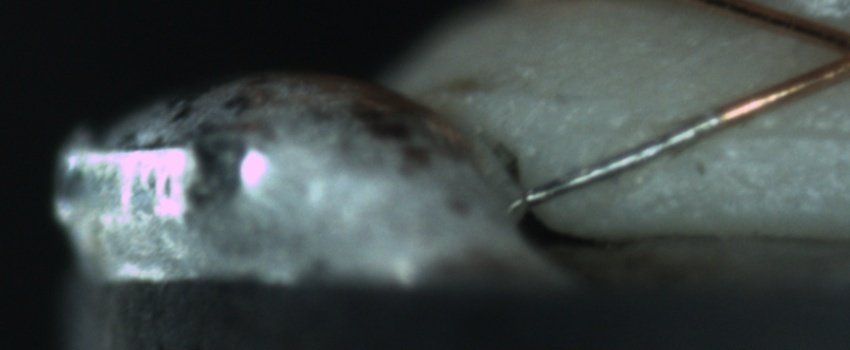CL: (805, 15, 850, 85)
DL: (696, 102, 850, 166)
TS: (522, 111, 721, 206)
